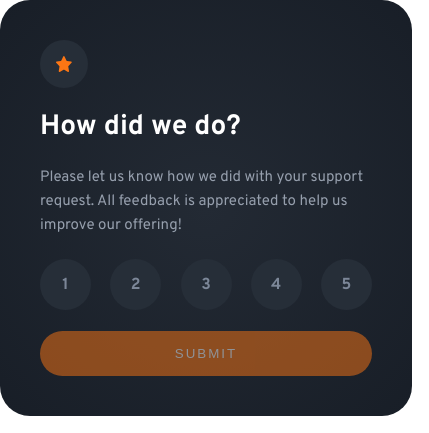
RatingCard › interaction › Score buttons › Enable submit button after click score button
This screenshot has width=429, height=433.
Step 1. Click the button "5" → (346, 284), box [321,259,372,310]
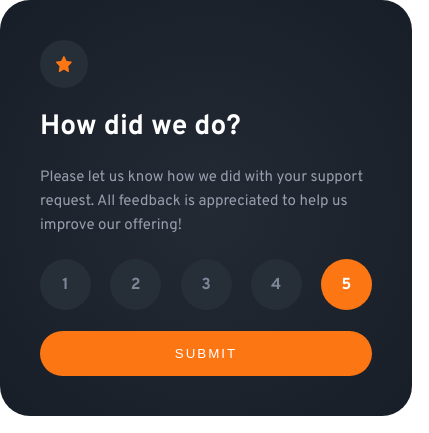
Now the button "submit" is enabled, box [40,331,372,376]
